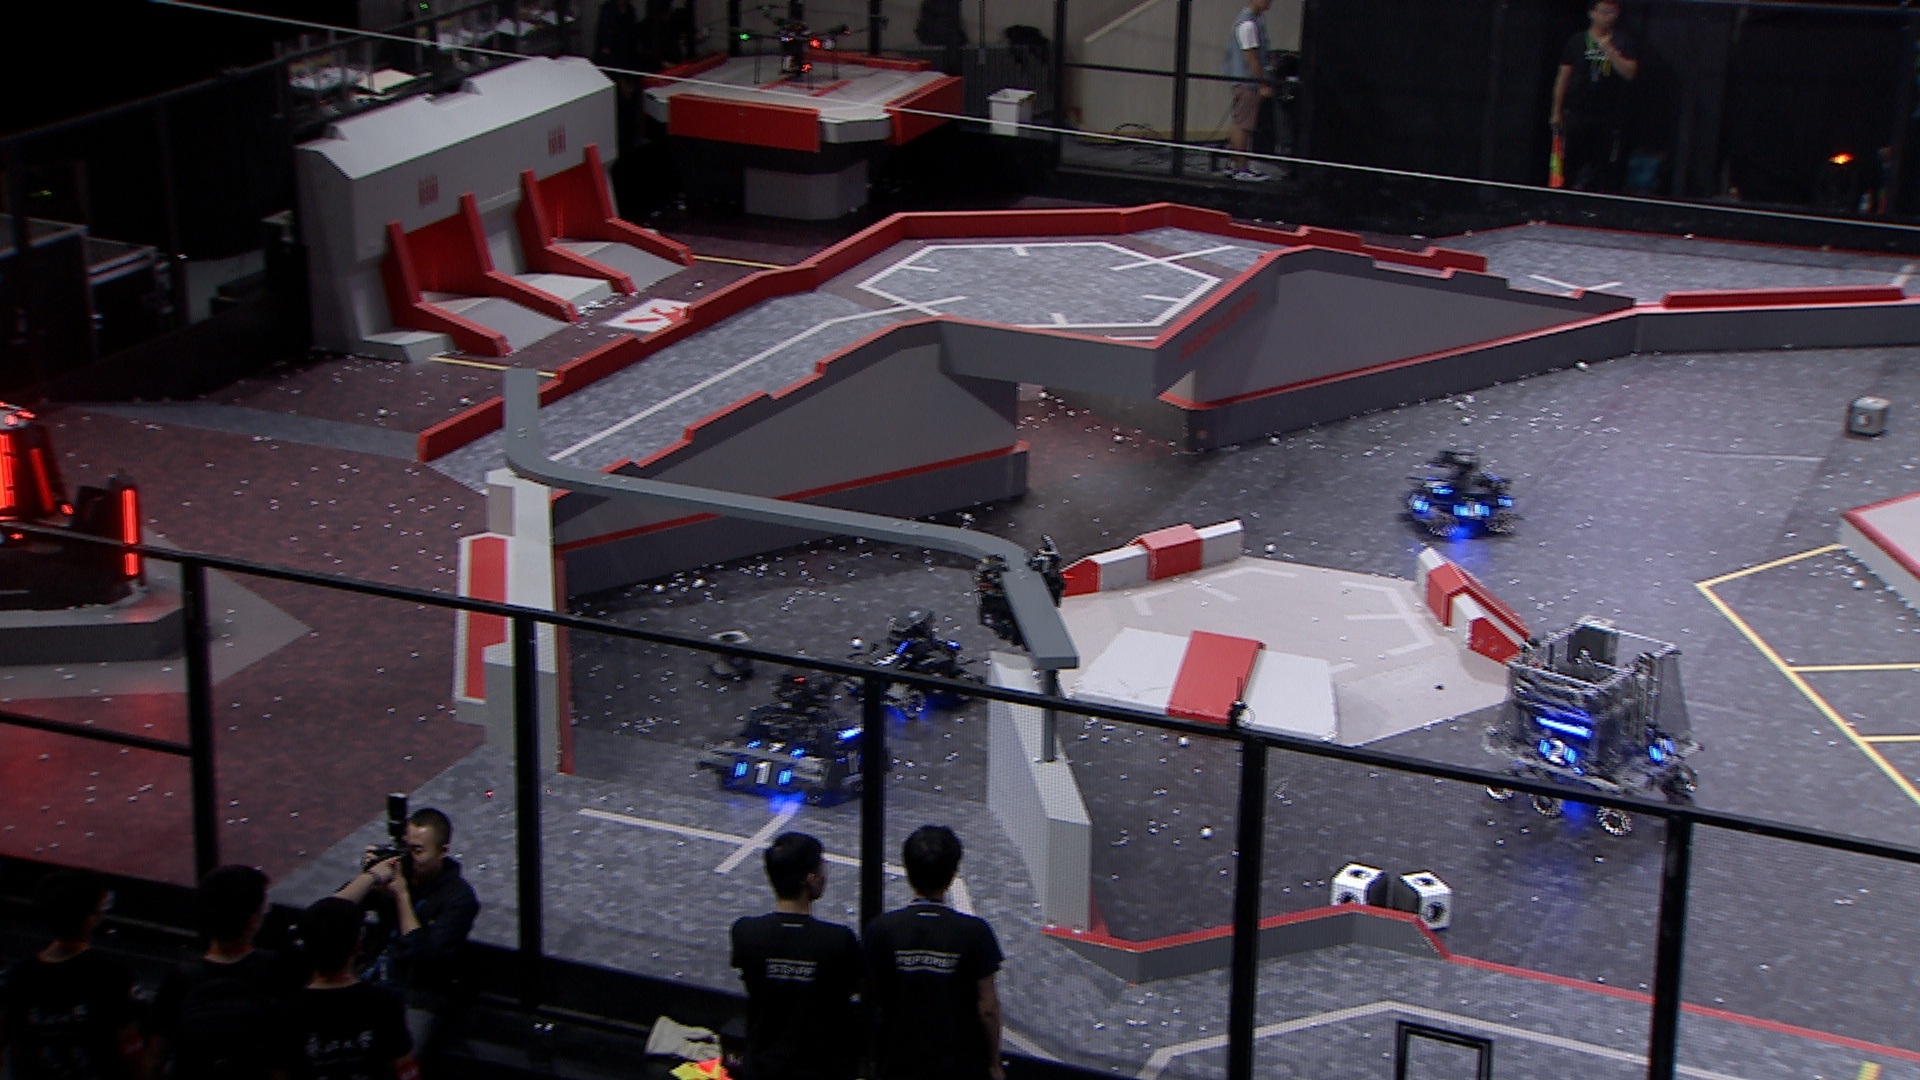armor: (22, 443, 59, 514), (119, 493, 145, 580), (731, 757, 790, 793), (746, 738, 807, 765), (1539, 737, 1577, 770), (833, 750, 872, 781), (869, 644, 909, 673), (1647, 736, 1675, 767), (1458, 498, 1489, 520), (1404, 488, 1428, 514), (1420, 476, 1452, 495)
car: (1480, 618, 1704, 832), (698, 661, 891, 800), (839, 605, 984, 719), (1400, 447, 1519, 543)
watcher: (967, 531, 1069, 655)
